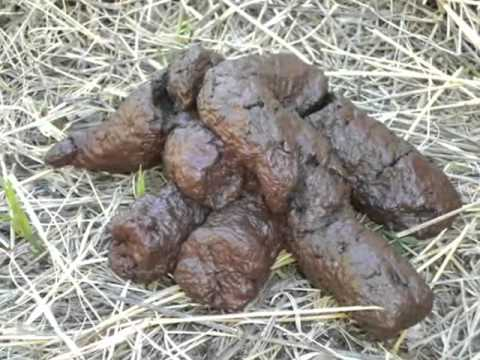Elk: (50, 48, 412, 320)
